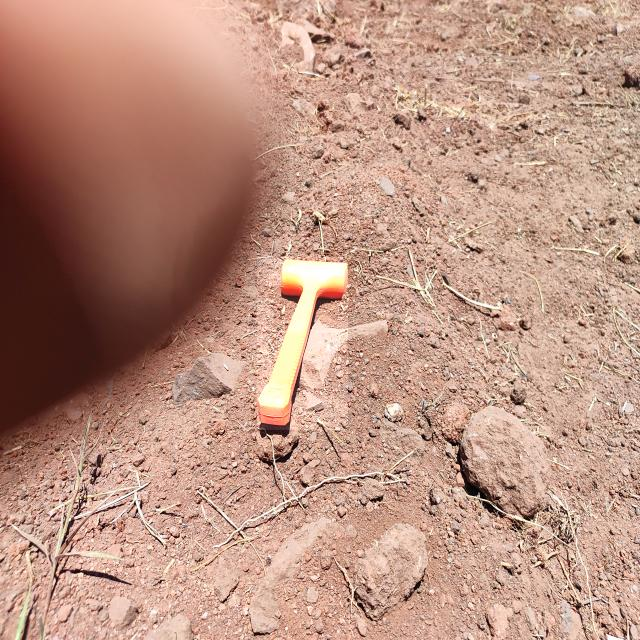Orange_hammer: (257, 257, 348, 430)
